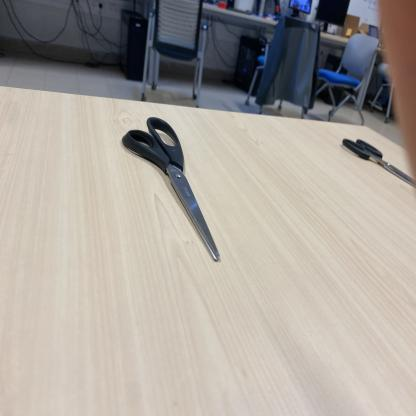scissors: (122, 116, 221, 263), (342, 138, 416, 188)
